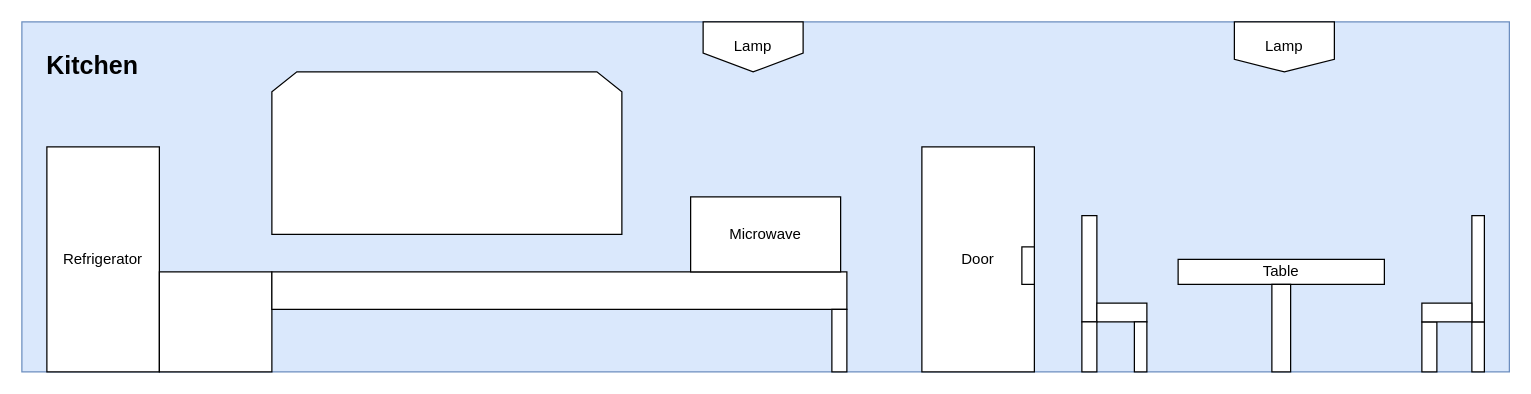
Some shapes in this 1531 by 394 pixel diagram are drawn without their labels. Each missing label, with the centre of its shape:
"Countertop" goes at [559,290].
"Stove" goes at [215,321].
"Window" goes at [446,152].
